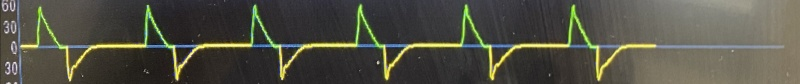normal_flow: (15, 0, 664, 84)
